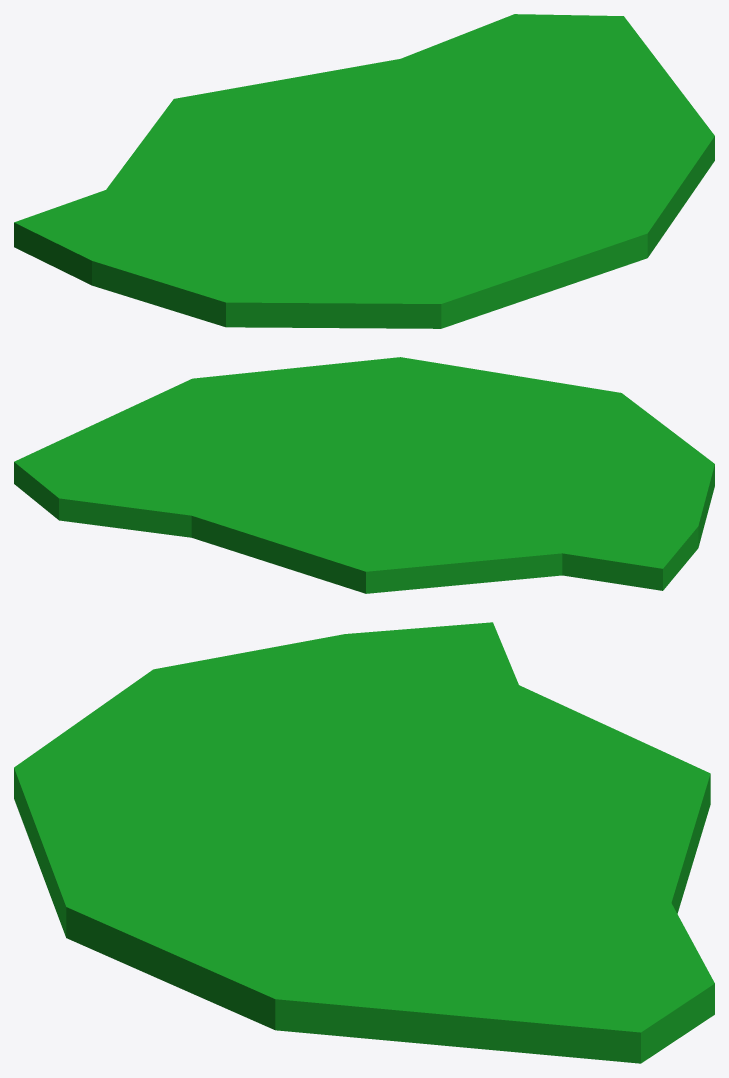
The model's file is PolyShape (1).obj.
3 renders of one model, top to bottom at view 1: azimuth 30°, elevation 25°; view 2: azimuth 150°, elevation 25°; view 3: azimuth 270°, elevation 25°, orthographic. The views are drawn at different scales.
Parts seen in each view (by area): view 1: PolyShape (1); view 2: PolyShape (1); view 3: PolyShape (1).
Part boxes in pixels (x1,y1,x2,y2): PolyShape (1): [14, 14, 714, 328]; PolyShape (1): [14, 357, 714, 593]; PolyShape (1): [14, 622, 714, 1063].
Size of the model in its own units: 97.62 by 3.46 by 70.49.
